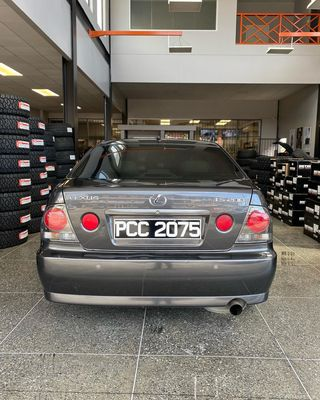License-Plate: (114, 219, 200, 238)
